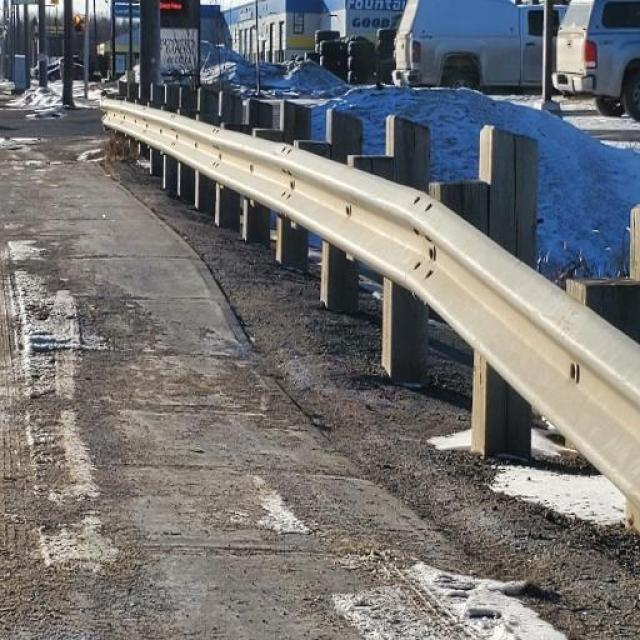Guard rail: (96, 75, 640, 541)
